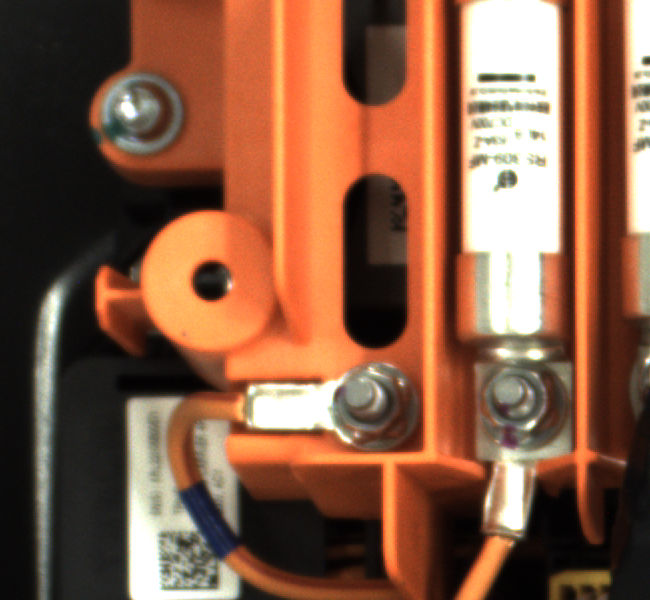screw_s: (457, 349, 579, 467), (319, 345, 424, 455)
